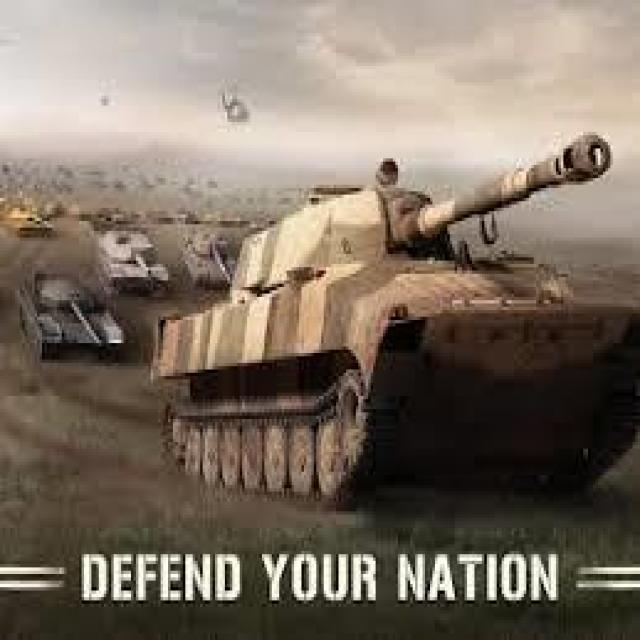Tanks: (141, 125, 571, 541), (25, 203, 136, 388), (166, 175, 242, 297)
